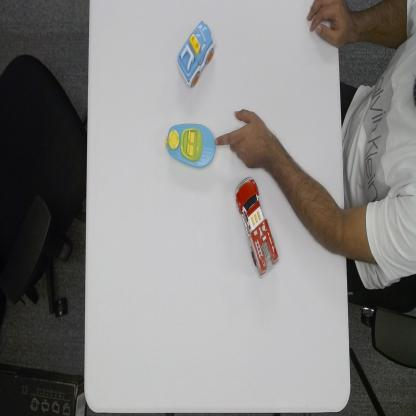Arm: (277, 136, 344, 252)
Boat: (163, 120, 216, 171)
Car: (176, 18, 216, 91)
Firetruck: (234, 176, 281, 280)
Hand: (214, 108, 266, 168), (306, 0, 343, 48)
